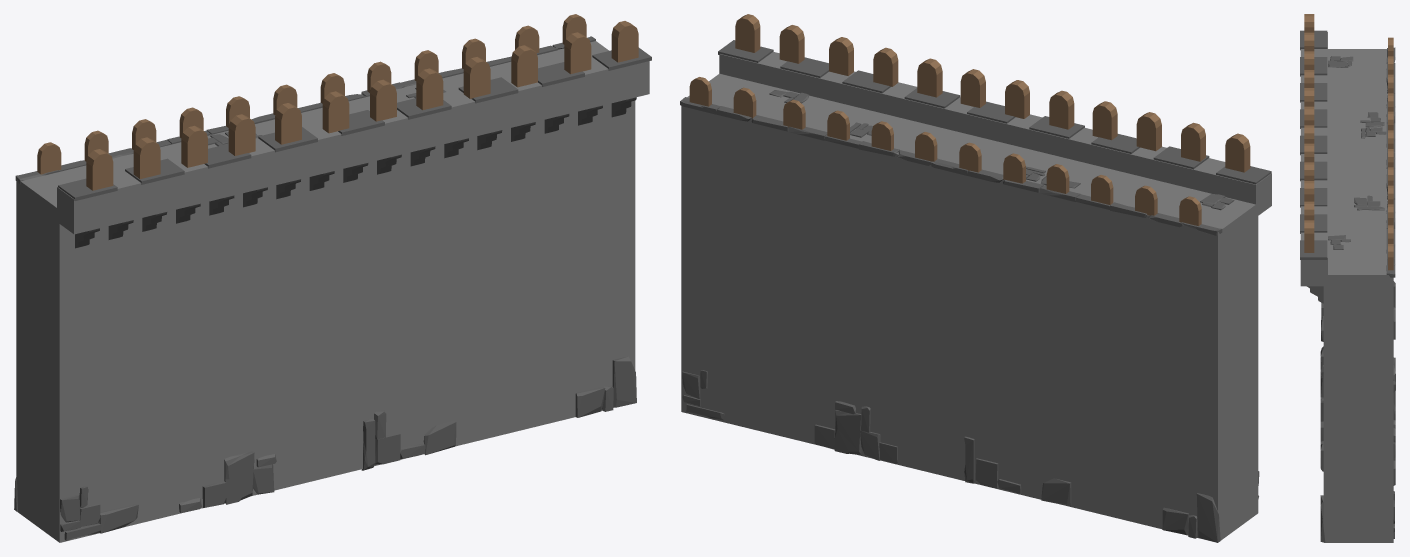
The model's file is SM_wall_castle_arabian.fbx.
3 renders of one model, left to right at view 1: azimuth 30°, elevation 25°; view 2: azimuth 150°, elevation 25°; view 3: azimuth 270°, elevation 25°, orthographic. The views are drawn at different scales.
Visible parts, largest first — view 1: Box247; view 2: Box247; view 3: Box247.
Part boxes in pixels (x1,y1,x2,y2): Box247: (14, 14, 651, 542); Box247: (680, 14, 1271, 542); Box247: (1300, 14, 1395, 542).
Bounding box in the file's own units: 576 × 102 × 373.
